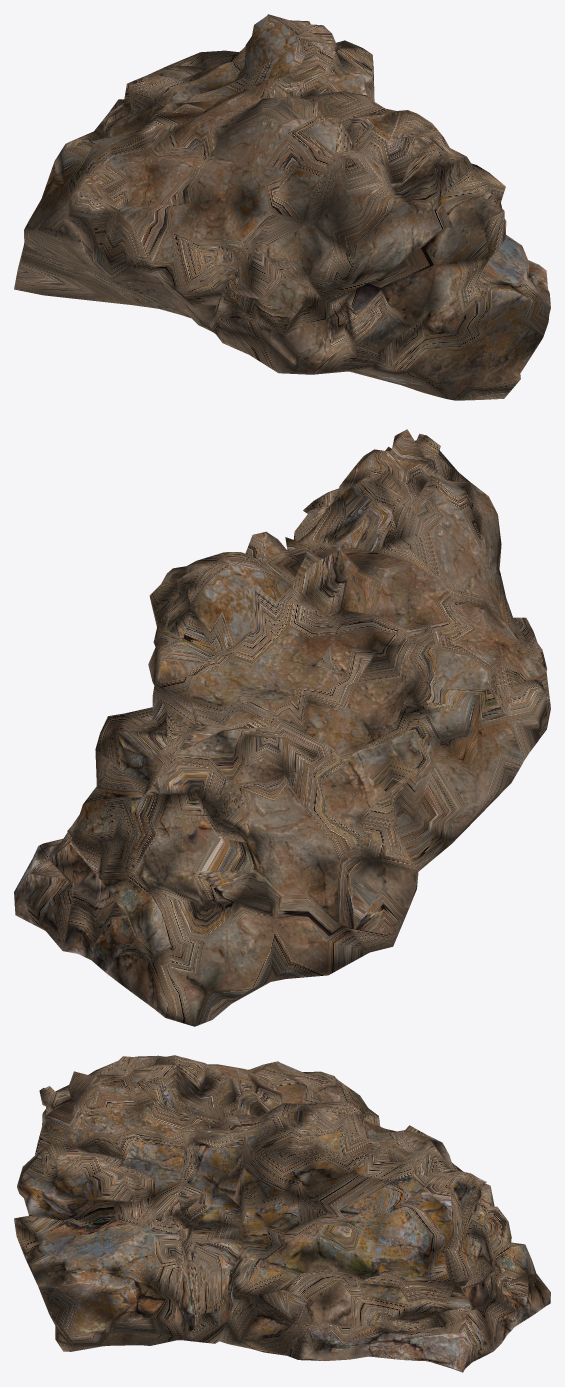
Rendered from rock_boulder.glb.
3 views of the same model, one above another, from view 1: azimuth 30°, elevation 25°; view 2: azimuth 150°, elevation 25°; view 3: azimuth 270°, elevation 25° (orthographic). The views are drawn at different scales.
Bounding box in the file's own units: 1.27 × 1 × 1.82.
Materials: 1 (1 with a texture image).
